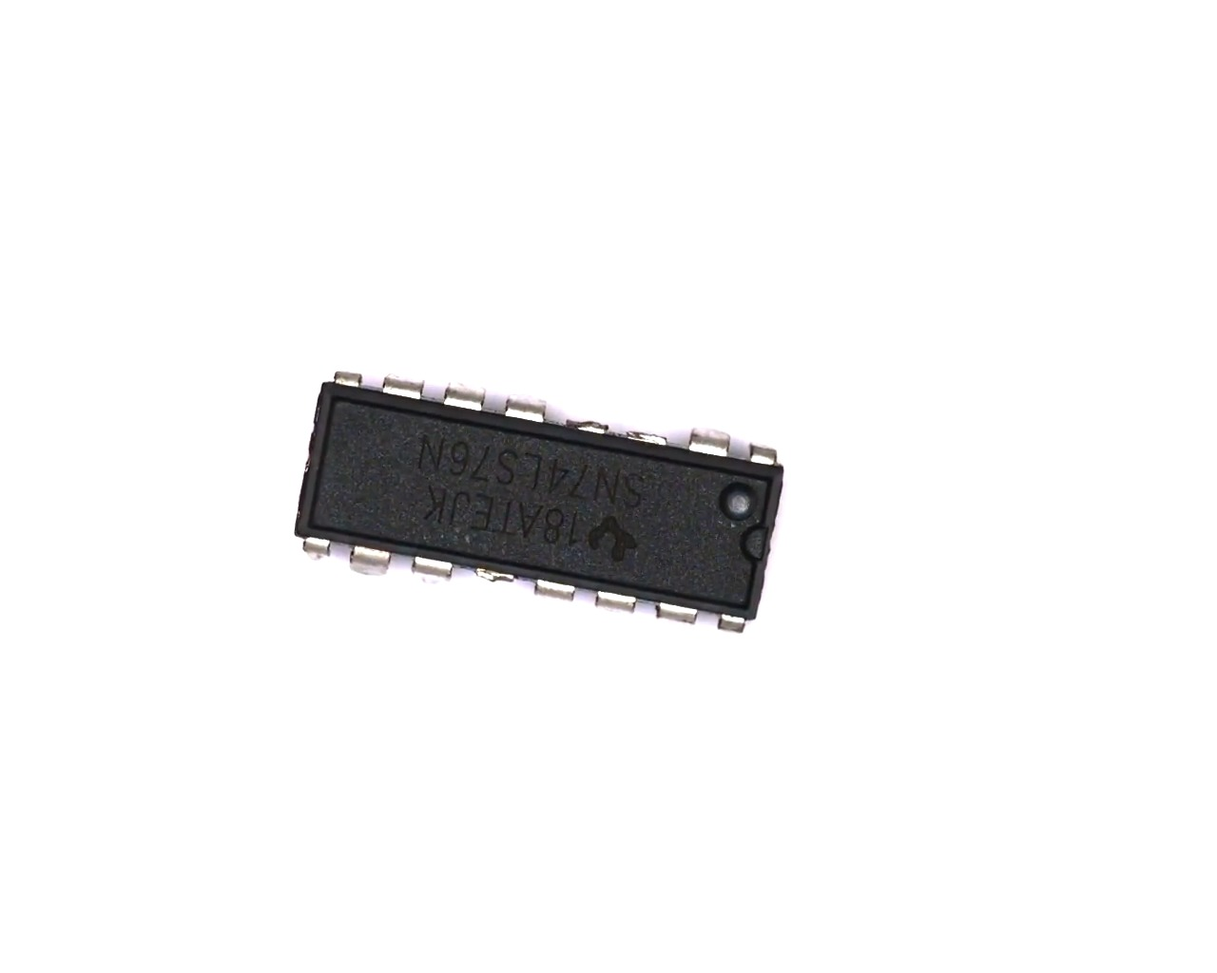IC: (286, 361, 794, 649)
notch: (740, 517, 776, 567)
